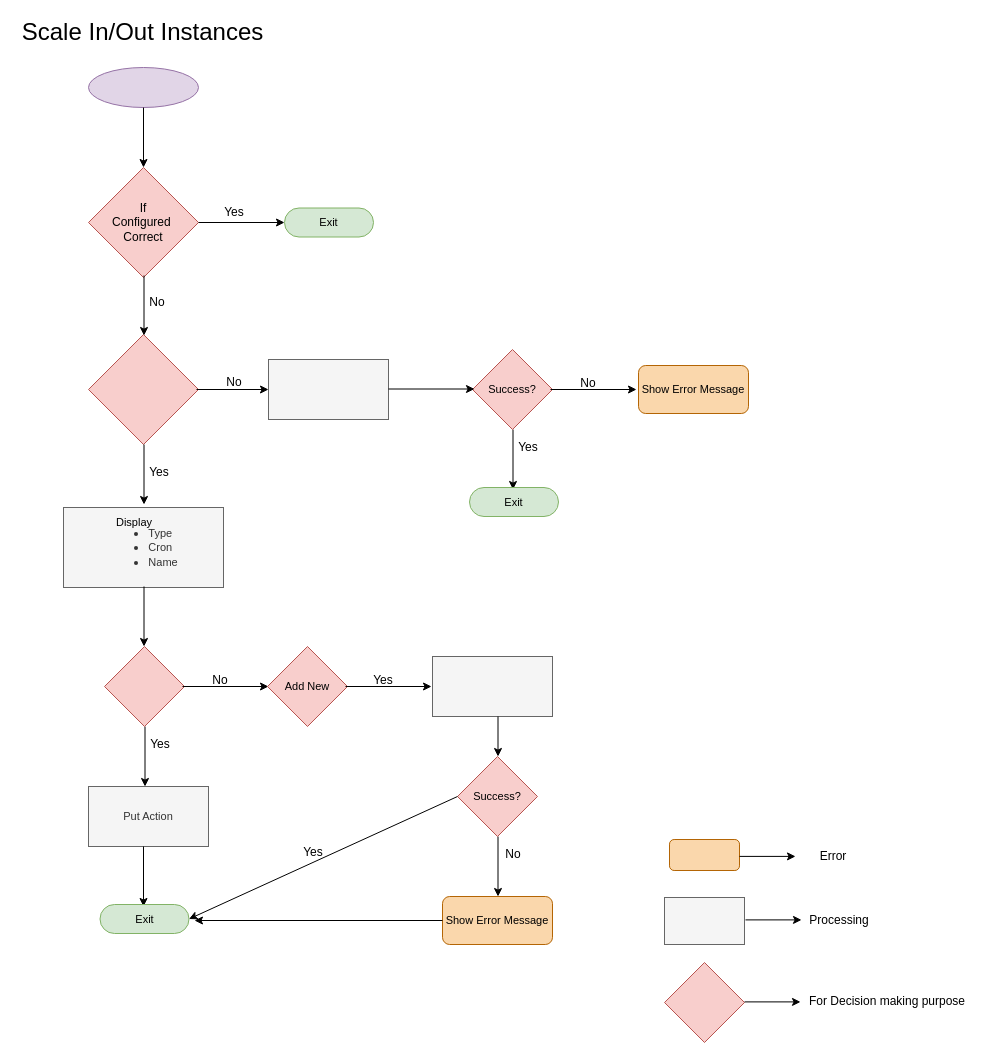
Image size: 991x1060. Some labels were removed from this diagram. Each missing label, with the centre of its shape:
"If Display Configuration" belongs at pixel 143 389.
"Modify?" belongs at pixel 144 686.
"Put New Name and Action" belongs at pixel 492 686.
"Put New Scheduled Action" belongs at pixel 328 389.
"Start" belongs at pixel 143 87.
